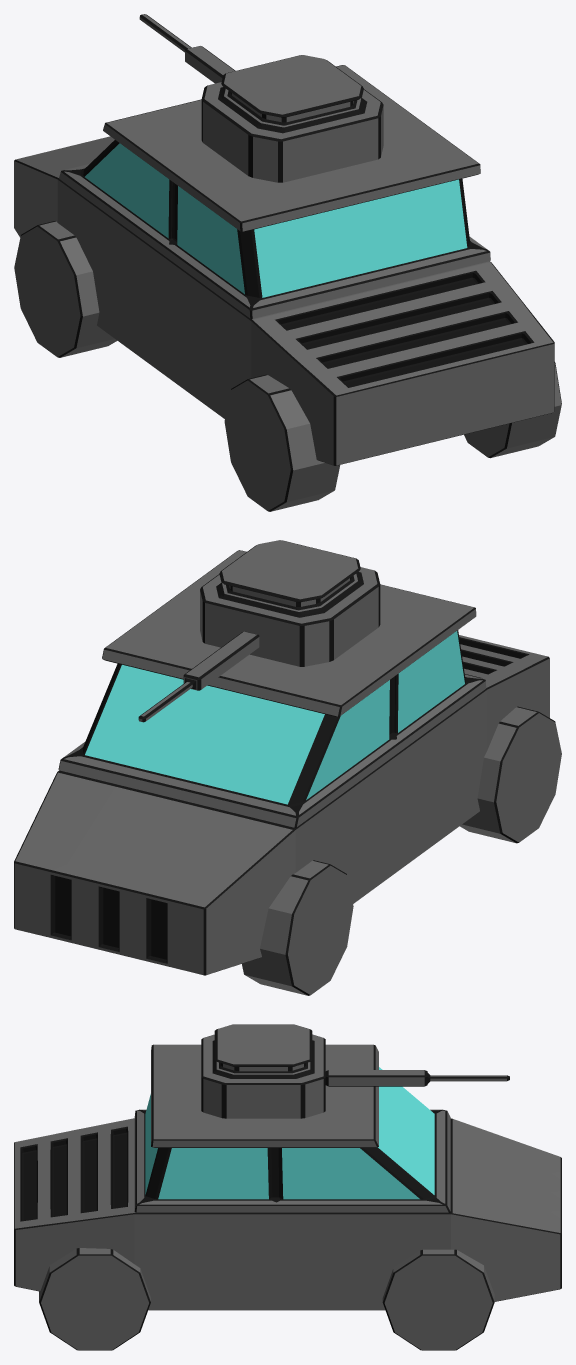
Rendered from Car.fbx.
3 views of the same model, one above another, from view 1: azimuth 30°, elevation 25°; view 2: azimuth 150°, elevation 25°; view 3: azimuth 270°, elevation 25° (orthographic). The views are drawn at different scales.
Visible parts, largest first — view 1: Cube.019, Cube.020; view 2: Cube.019, Cube.020; view 3: Cube.019, Cube.020.
Boxes of the visible parts, x1,y1,x2,y2 form: Cube.019: (14,65,561,511); Cube.020: (139,14,383,182); Cube.019: (14,550,561,995); Cube.020: (138,540,380,722); Cube.019: (14,1044,561,1350); Cube.020: (201,1024,509,1118).
Size of the model in its own units: 1.42 by 1.56 by 3.04.
